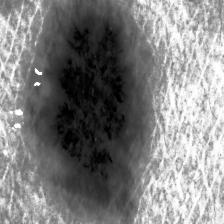Benign Marking or Mole: (29, 0, 151, 215)
